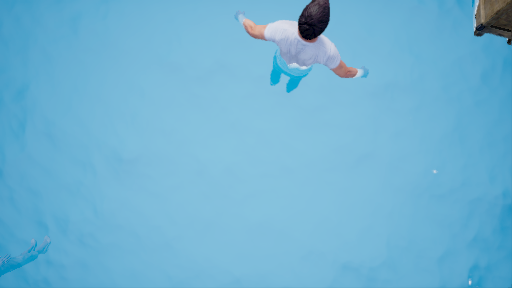person: (227, 1, 372, 94)
